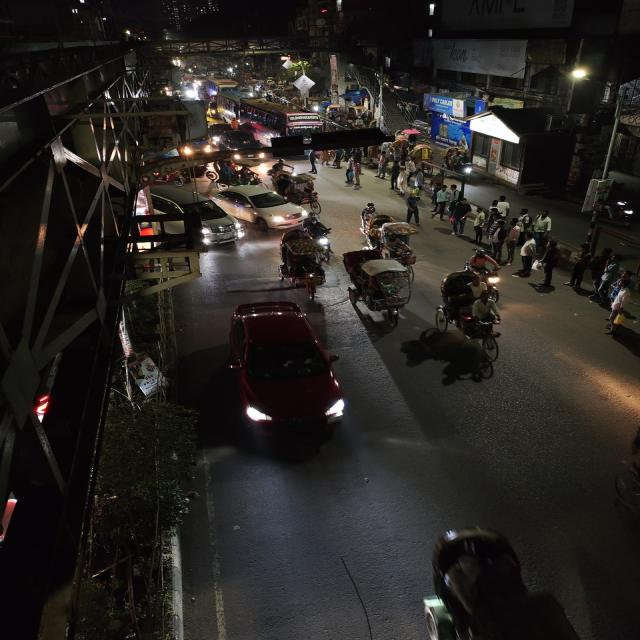bus: (236, 98, 325, 144)
car: (219, 299, 350, 452), (216, 184, 304, 230), (178, 197, 242, 249), (216, 132, 269, 162)
motorcycle: (455, 291, 510, 351), (467, 249, 505, 291), (302, 216, 336, 256), (266, 157, 295, 177)
pedestrian: (600, 273, 640, 339), (466, 249, 503, 291), (586, 247, 616, 295), (535, 242, 566, 285), (600, 302, 636, 338), (566, 246, 594, 292), (497, 217, 522, 262), (514, 238, 539, 276), (448, 197, 471, 237), (342, 155, 367, 189), (490, 216, 509, 258), (429, 184, 450, 220), (533, 209, 554, 243), (471, 207, 489, 245), (404, 192, 423, 225), (389, 160, 405, 192), (305, 148, 323, 174), (495, 194, 512, 219), (409, 169, 426, 193), (518, 207, 532, 232), (490, 195, 505, 218)
rickshaw: (432, 270, 514, 352), (342, 247, 415, 327), (275, 233, 327, 299), (373, 218, 422, 266), (275, 172, 323, 214)
